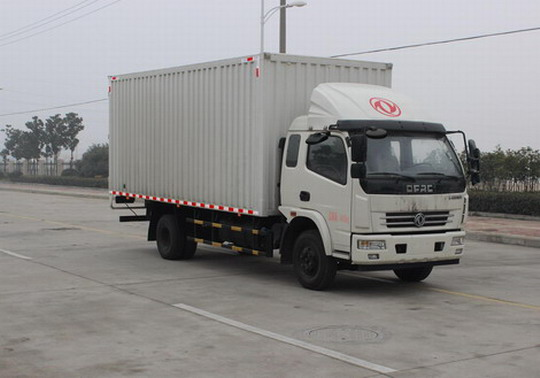smalltruck: (89, 39, 484, 294)
